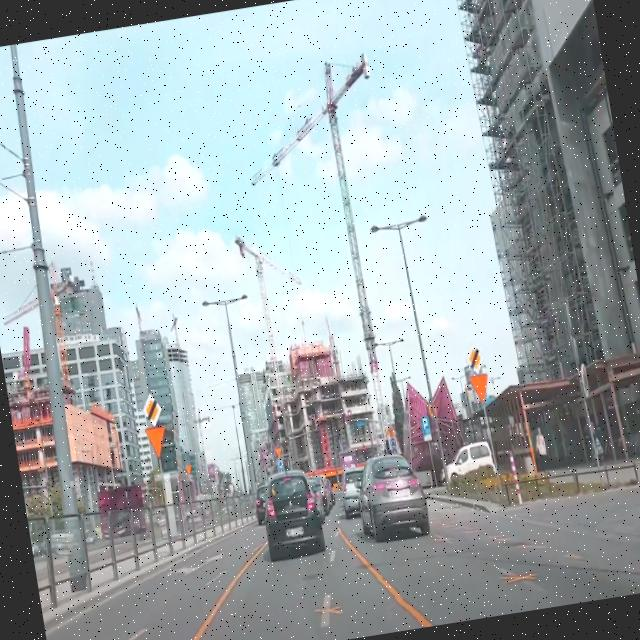Ustap pierwszenstwa: (144, 424, 169, 458), (468, 372, 492, 405), (274, 445, 284, 461), (184, 464, 194, 476), (386, 427, 394, 439)
